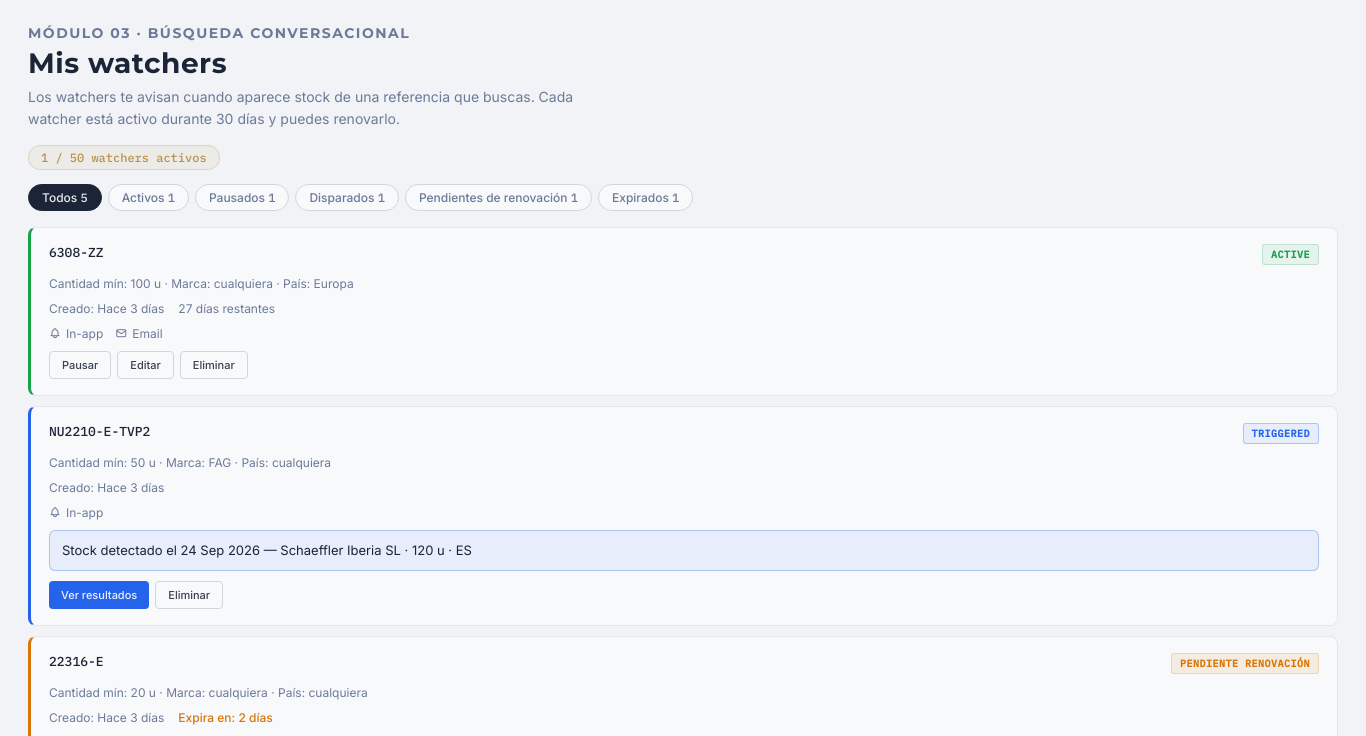
Test: Watchers · editar (spec §4) › si guardar falla, el formulario SIGUE abierto con el error dentro
Expected: the element named "Watcher 6308-ZZ" is shown, [28,227,1338,396]
Click the button with aria-label "Editar — 6308-ZZ". click: coordinates (146, 365)
box: [117,351,174,379]
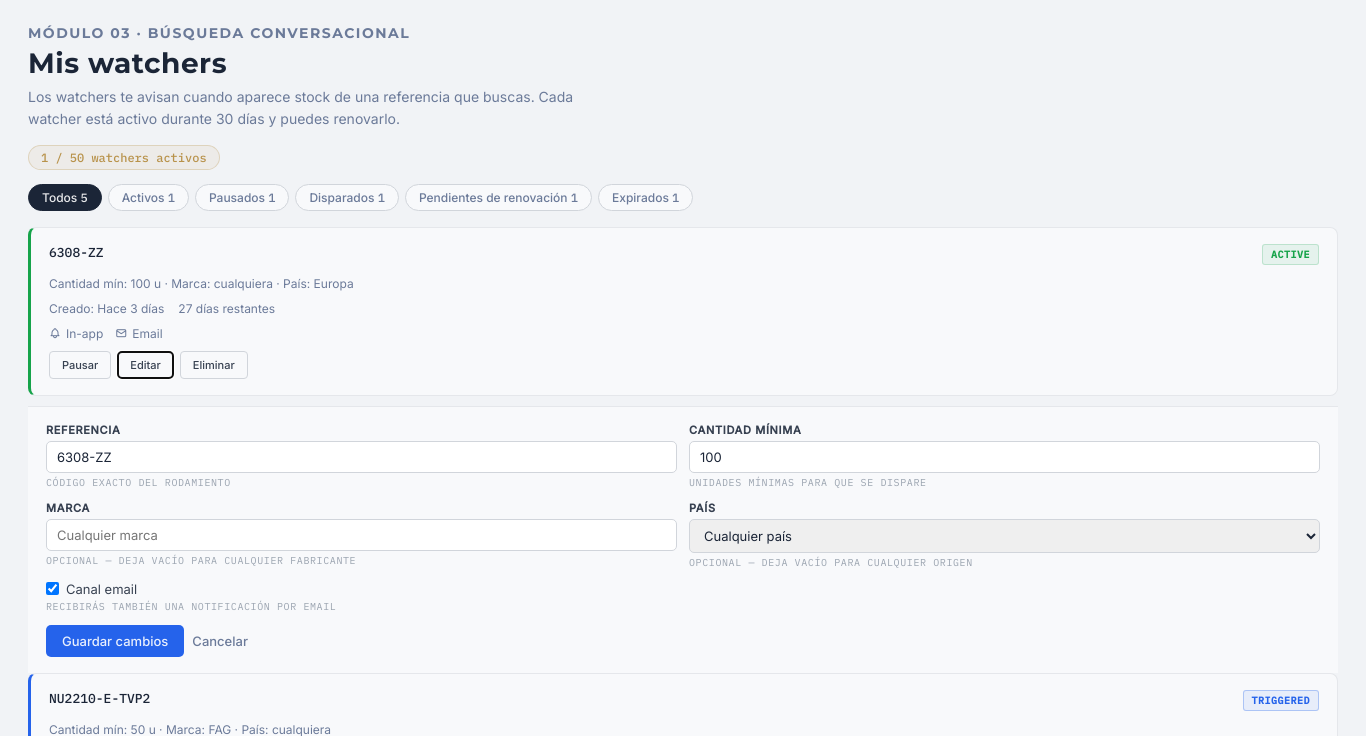
Click the button "Guardar cambios". click: coordinates (115, 641)
box: [46,625,184,657]
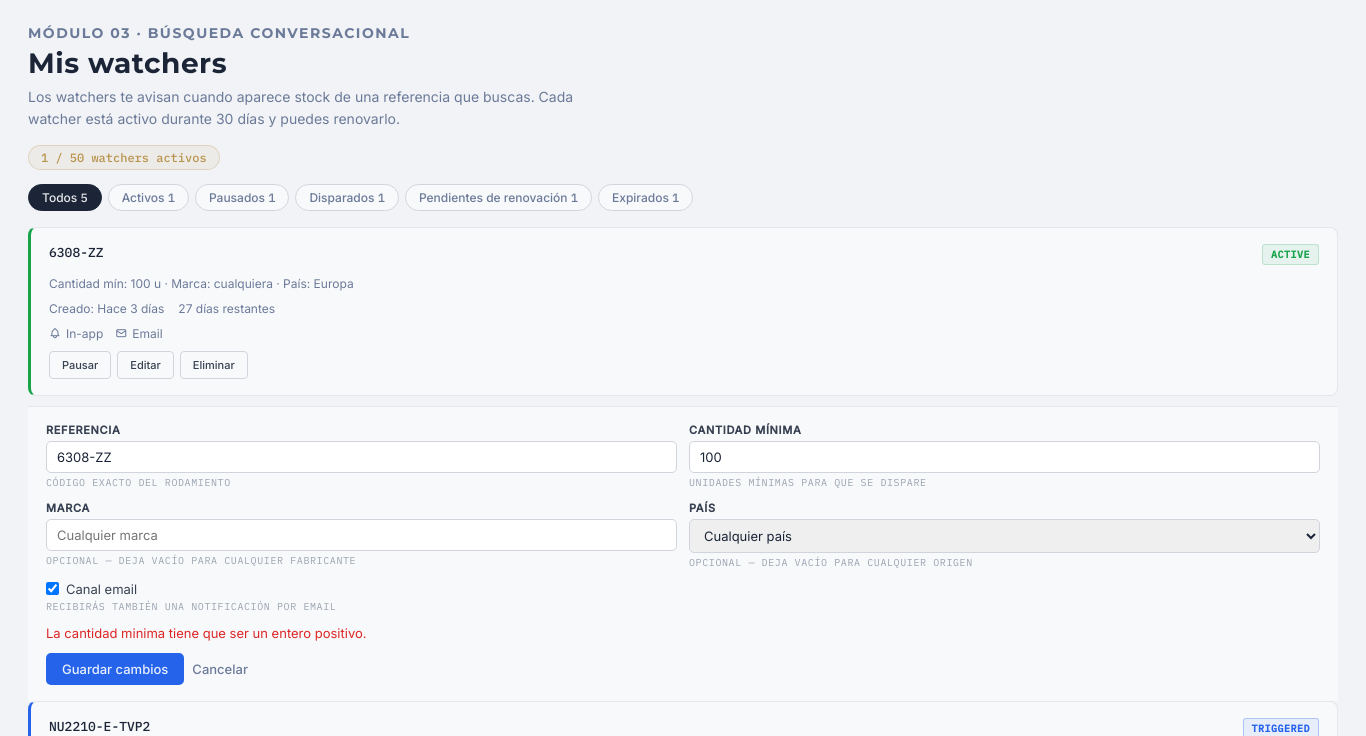
Expected: the message reads "La cantidad minima tiene que ser un entero positivo.", [46,625,366,641]
